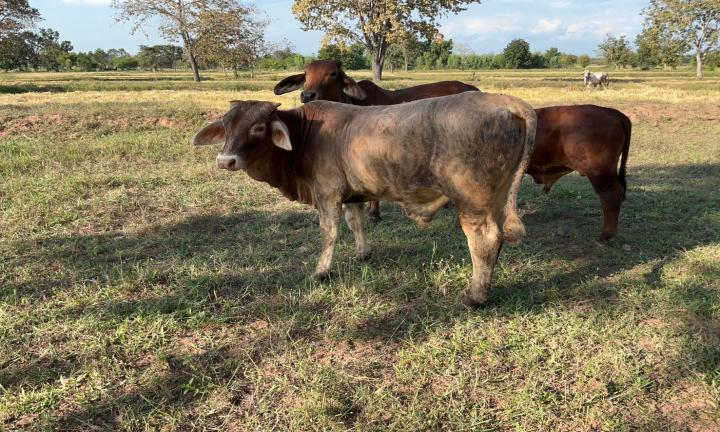Charolais: (192, 91, 536, 308)
